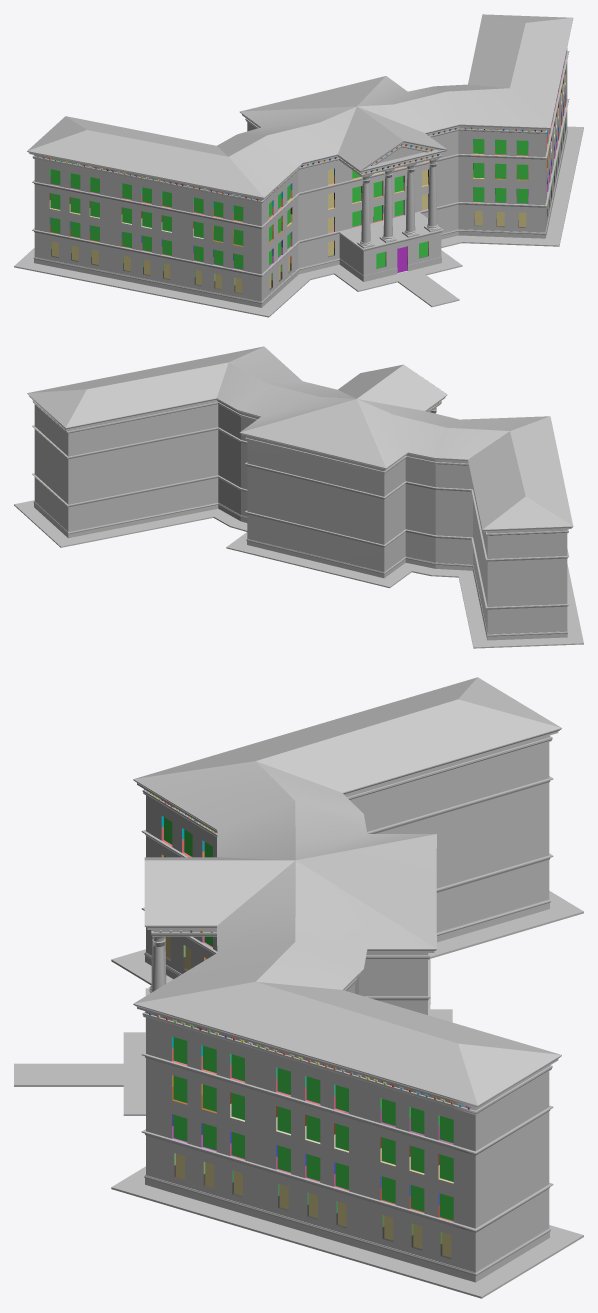
File: street_building_school.FBX
3 views of the same model, one above another, from view 1: azimuth 30°, elevation 25°; view 2: azimuth 150°, elevation 25°; view 3: azimuth 270°, elevation 25° (orthographic). The views are drawn at different scales.
Parts seen in each view (by area): view 1: street_building_school_roof, street_building_school_2-3et, street_building_school_1et, reet_building_school_podush, street_building_school_friz, street_building_school_window_big, street_building_school_white, street_building_school_cokol, street_building_school_colum, street_building_school_window_small; view 2: street_building_school_2-3et, street_building_school_roof, street_building_school_1et, street_building_school_friz, reet_building_school_podush, street_building_school_cokol; view 3: street_building_school_roof, street_building_school_2-3et, street_building_school_1et, reet_building_school_podush, street_building_school_friz, street_building_school_window_big, street_building_school_cokol, street_building_school_white, street_building_school_window_small, street_building_school_colum.
Part boxes in pixels (x1,y1,x2,y2): street_building_school_roof: (27, 14, 573, 197); street_building_school_2-3et: (34, 48, 567, 274); street_building_school_1et: (34, 110, 567, 301); reet_building_school_podush: (14, 126, 583, 317); street_building_school_friz: (27, 20, 572, 276); street_building_school_window_big: (50, 139, 527, 269); street_building_school_white: (36, 56, 565, 293); street_building_school_cokol: (33, 127, 567, 307); street_building_school_colum: (357, 148, 441, 248); street_building_school_window_small: (52, 168, 526, 293); street_building_school_2-3et: (34, 404, 567, 606); street_building_school_roof: (27, 346, 573, 529); street_building_school_1et: (34, 477, 567, 634); street_building_school_friz: (27, 393, 573, 609); reet_building_school_podush: (14, 500, 583, 648); street_building_school_cokol: (33, 501, 567, 640); street_building_school_roof: (133, 677, 561, 1105); street_building_school_2-3et: (146, 742, 549, 1228); street_building_school_1et: (146, 860, 549, 1272); reet_building_school_podush: (14, 891, 583, 1298); street_building_school_friz: (133, 728, 561, 1232); street_building_school_window_big: (164, 817, 453, 1220); street_building_school_cokol: (144, 899, 550, 1282); street_building_school_white: (144, 789, 470, 1259); street_building_school_window_small: (165, 936, 451, 1257); street_building_school_colum: (148, 935, 166, 993).
Bounding box in the file's own units: 8264 × 1852 × 4453.
